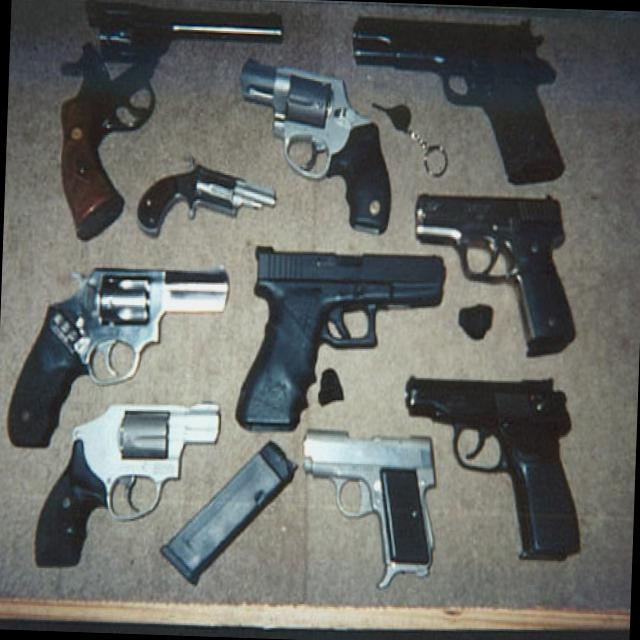handgun: (40, 1, 282, 247), (3, 262, 230, 454), (231, 243, 445, 432), (342, 11, 570, 185), (396, 370, 584, 558), (28, 395, 221, 570), (410, 186, 580, 358), (234, 55, 396, 232), (294, 426, 438, 584), (132, 152, 278, 241)
